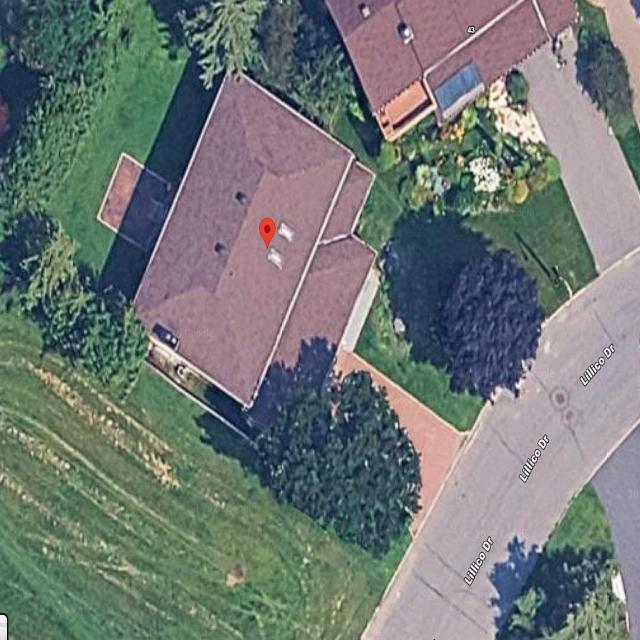Building: (125, 66, 377, 425)
boundaryof property: (19, 2, 538, 551)
obstacle: (440, 255, 543, 395)
walkways: (319, 349, 460, 534)
